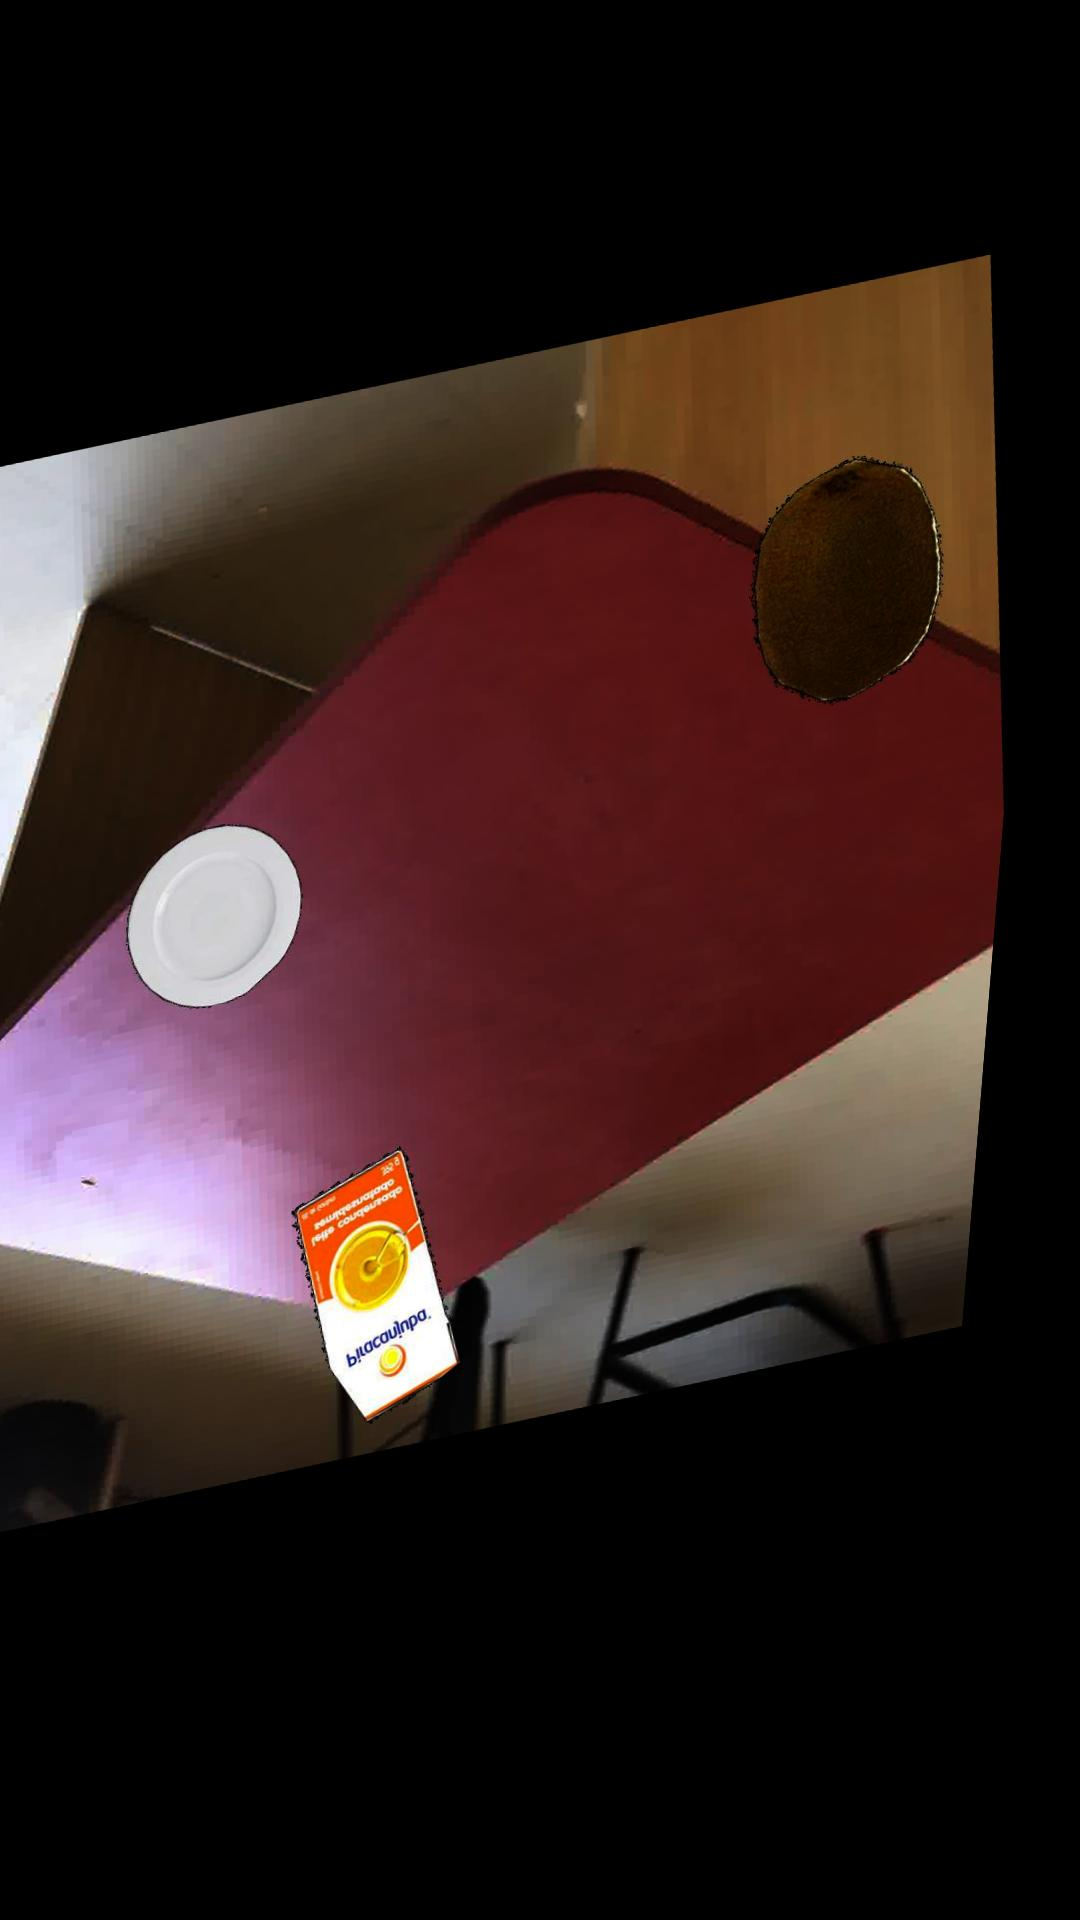kiwi: (765, 476, 955, 721)
plate: (145, 828, 320, 1013)
